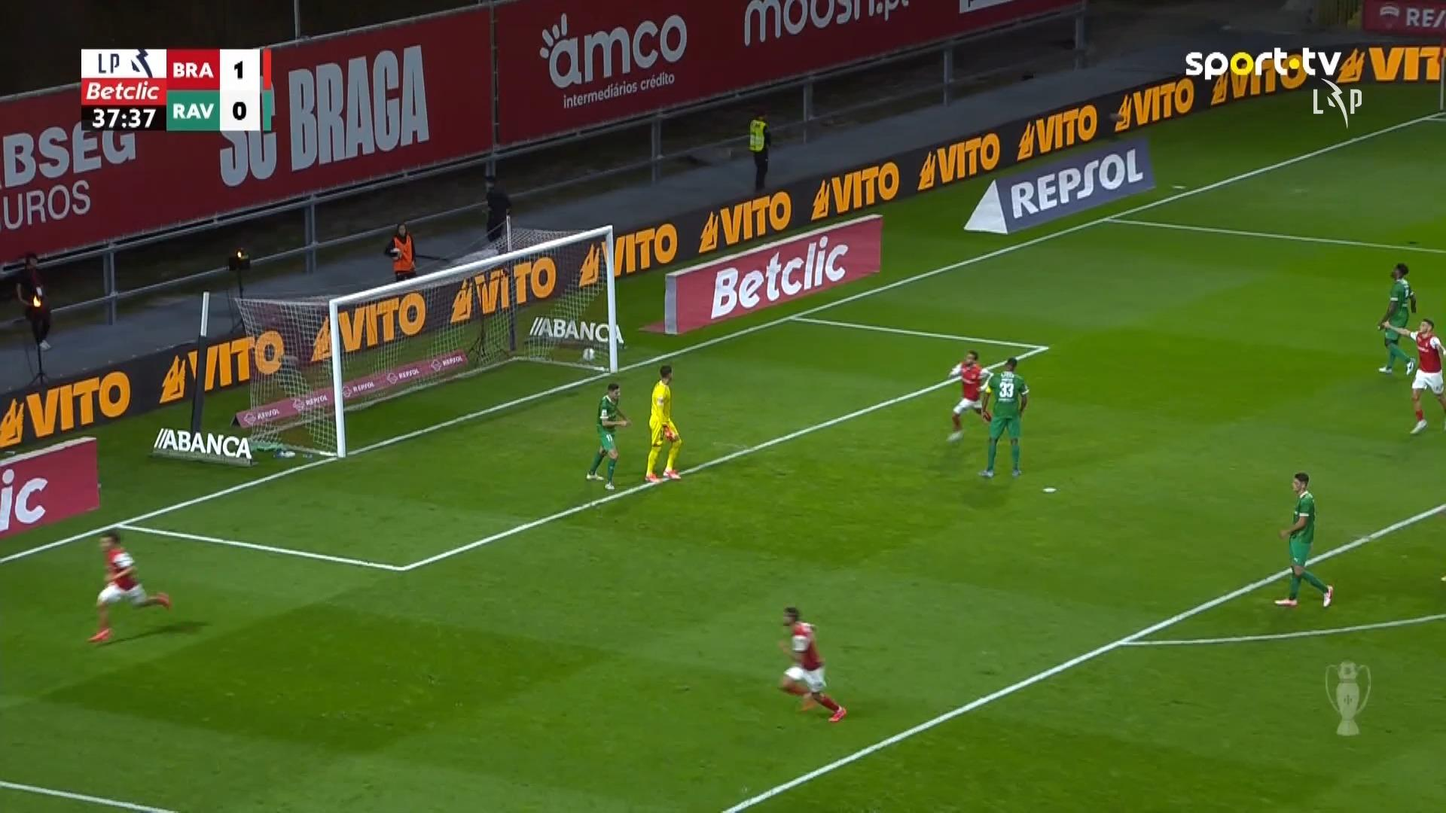ball: (582, 347, 596, 361)
goalkeeper: (643, 364, 682, 483)
player: (86, 528, 172, 644), (776, 605, 847, 723), (1273, 471, 1334, 608), (1379, 317, 1444, 434), (978, 356, 1029, 478), (584, 382, 630, 490), (1376, 261, 1417, 375), (945, 349, 992, 441)
